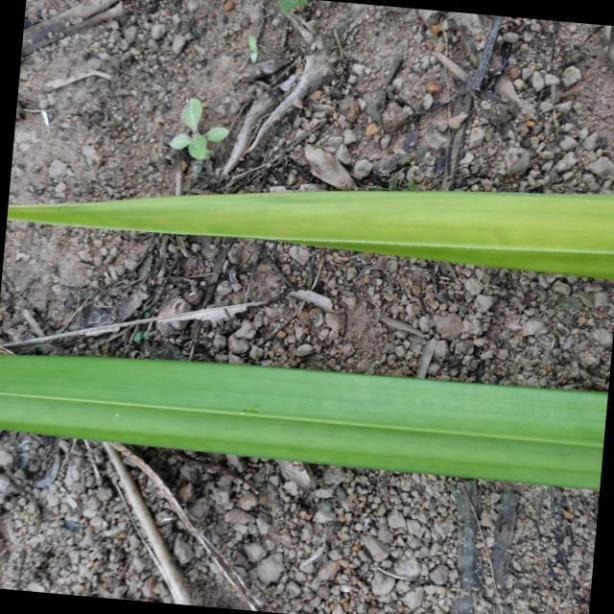nitrogen: (0, 355, 614, 494), (0, 189, 614, 278)
